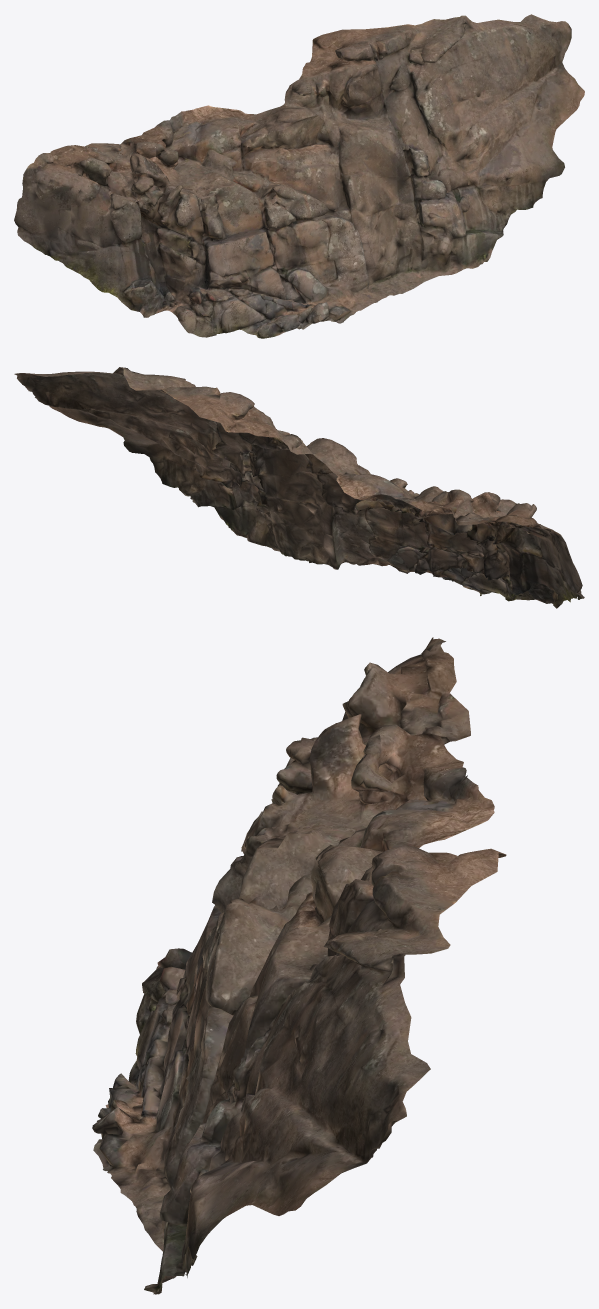
The model's file is namaqualand_cliff_02.glb.
The picture shows the model from 3 angles, top to bottom: view 1: azimuth 30°, elevation 25°; view 2: azimuth 150°, elevation 25°; view 3: azimuth 270°, elevation 25°; orthographic projection. The views are drawn at different scales.
Visible parts, largest first — view 1: drone_rock_02_LOD0; view 2: drone_rock_02_LOD0; view 3: drone_rock_02_LOD0.
Boxes of the visible parts, x1,y1,x2,y2 form: drone_rock_02_LOD0: [14, 14, 584, 338]; drone_rock_02_LOD0: [14, 367, 584, 608]; drone_rock_02_LOD0: [92, 637, 506, 1294].
Bounding box in the file's own units: 20.23 × 7.18 × 6.59.
1 material, 1 textured.
